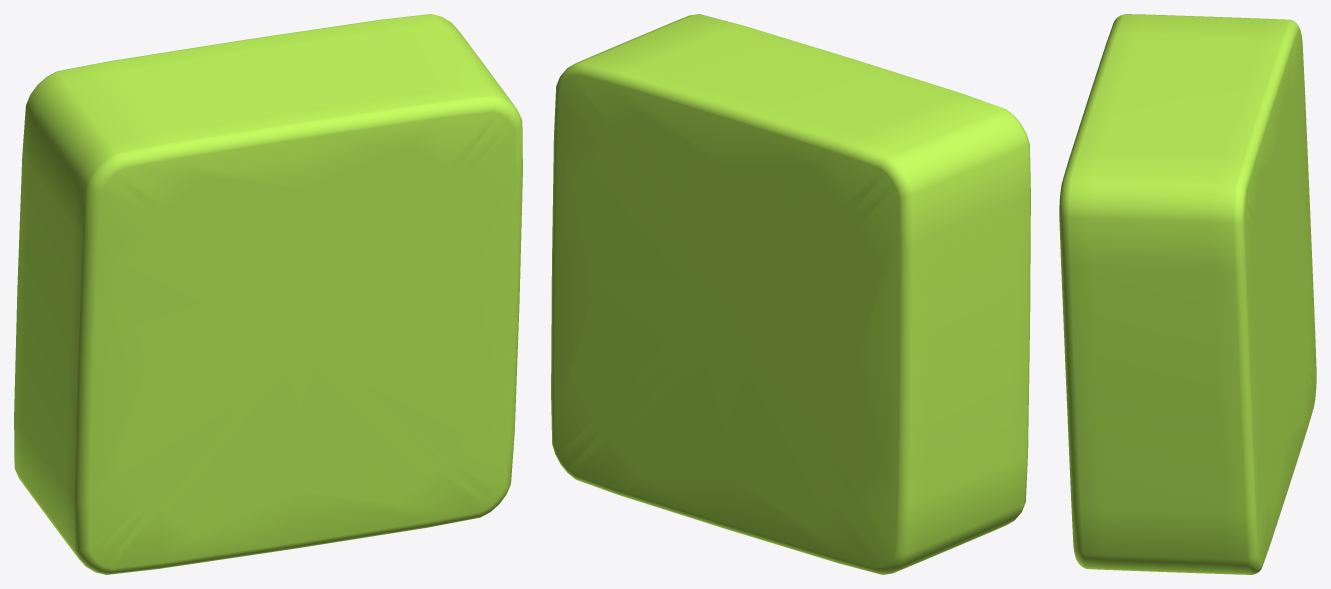
3 views of the same model, side by side, from view 1: azimuth 30°, elevation 25°; view 2: azimuth 150°, elevation 25°; view 3: azimuth 270°, elevation 25° (orthographic). The views are drawn at different scales.
Size of the model in its own units: 0.4091 by 0.3952 by 0.2252.
